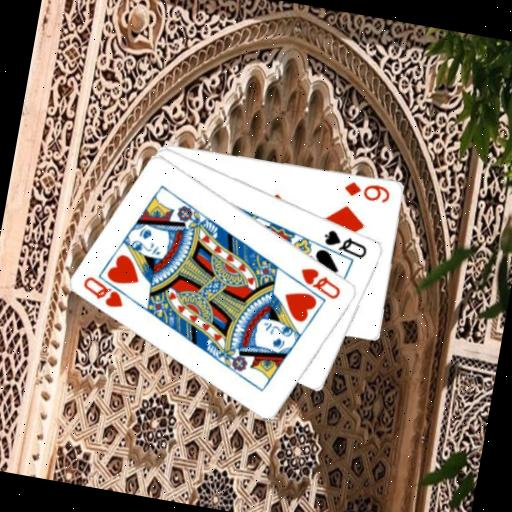6D: (340, 175, 393, 204)
QH: (77, 268, 139, 313), (294, 262, 346, 301)
QS: (318, 224, 371, 260)
